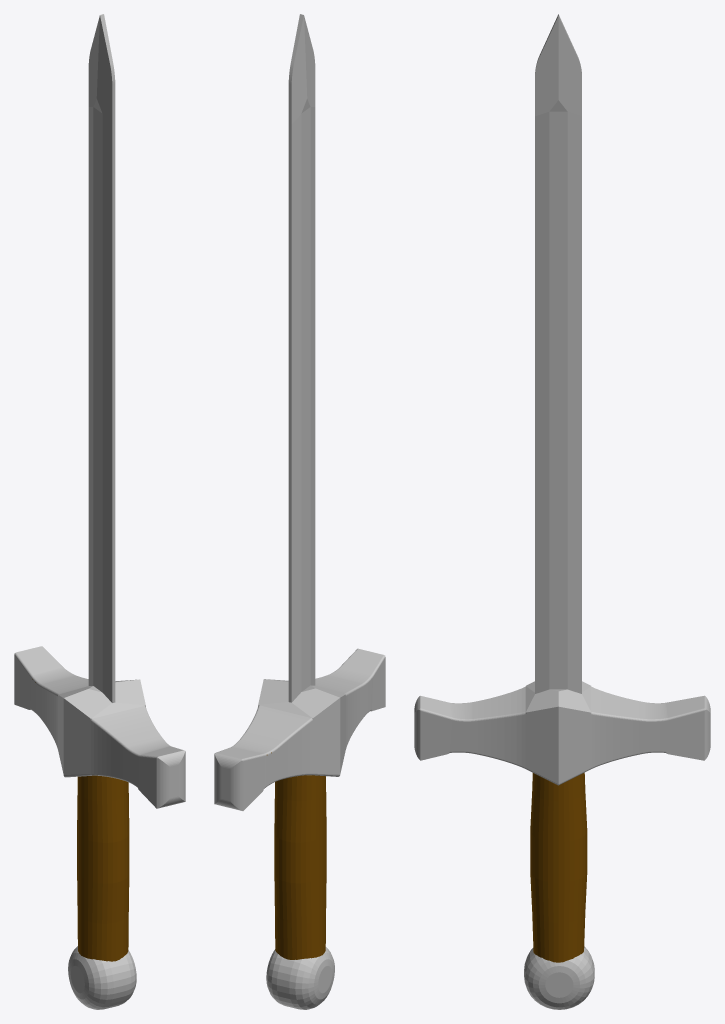
Rendered from Sword.glb.
3 renders of one model, left to right at view 1: azimuth 30°, elevation 25°; view 2: azimuth 150°, elevation 25°; view 3: azimuth 270°, elevation 25°, orthographic.
Visible parts, largest first — view 1: Cube; view 2: Cube; view 3: Cube.
Part boxes in pixels (bbox=[...]): Cube: bbox=[14, 14, 185, 1009]; Cube: bbox=[214, 14, 385, 1009]; Cube: bbox=[414, 14, 710, 1009].
Bounding box in the file's own units: 0.1293 × 1.6 × 0.4341.
